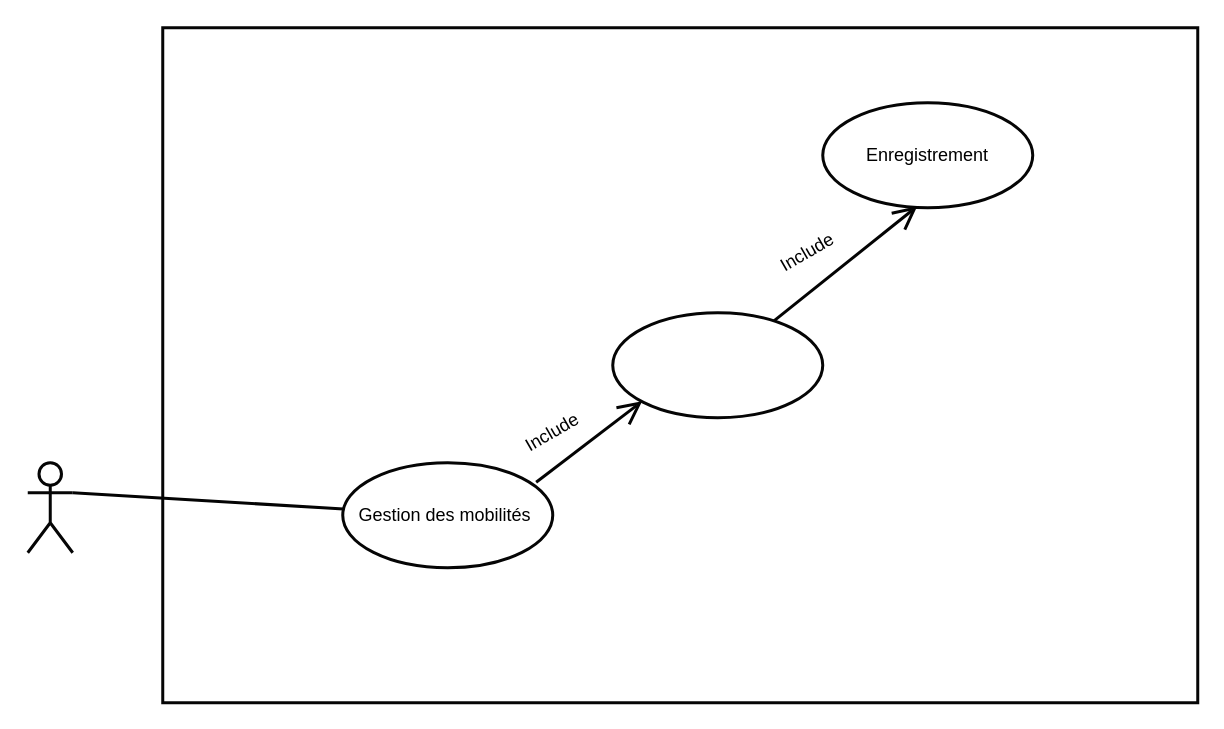
Image size: 1224x729. Some labels were removed from this diagram. Here are the shapes that lost their labels. From the top down, the centre of each, then its label:
(717,364): Authentification
(50,507): User
